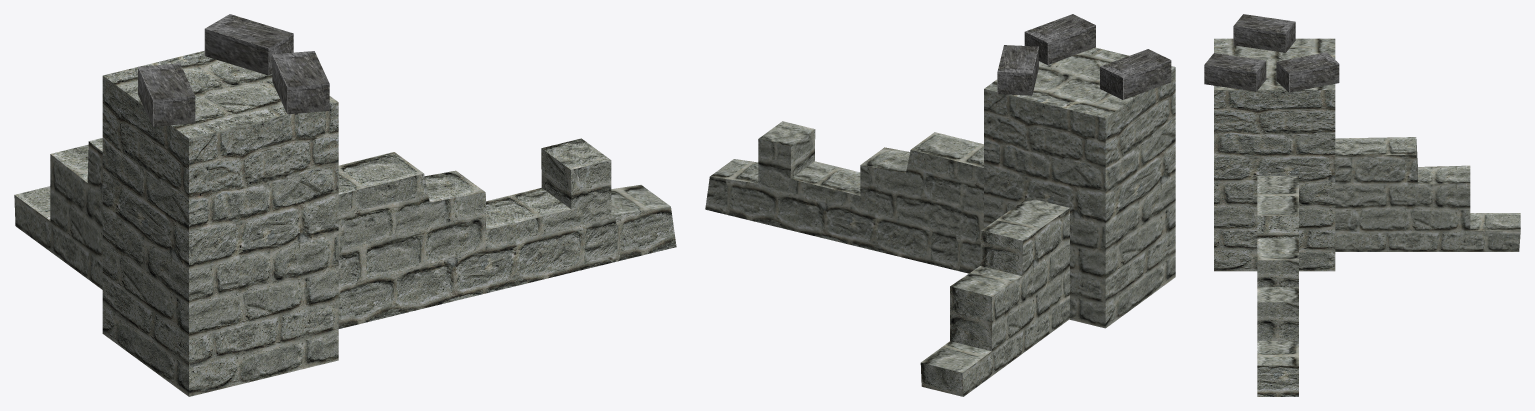
The model's file is ruinsFoundation.obj.
The picture shows the model from 3 angles, left to right: view 1: azimuth 30°, elevation 25°; view 2: azimuth 150°, elevation 25°; view 3: azimuth 270°, elevation 25°; orthographic projection. The views are drawn at different scales.
Parts seen in each view (by area): view 1: Untitled_foundationRuinOne200; view 2: Untitled_foundationRuinOne200; view 3: Untitled_foundationRuinOne200.
Part boxes in pixels (x1,y1,x2,y2): Untitled_foundationRuinOne200: (14, 14, 676, 396); Untitled_foundationRuinOne200: (705, 14, 1175, 396); Untitled_foundationRuinOne200: (1204, 14, 1520, 396).
Size of the model in its own units: 513 by 263 by 375.
Materials: 2 (2 with a texture image).
